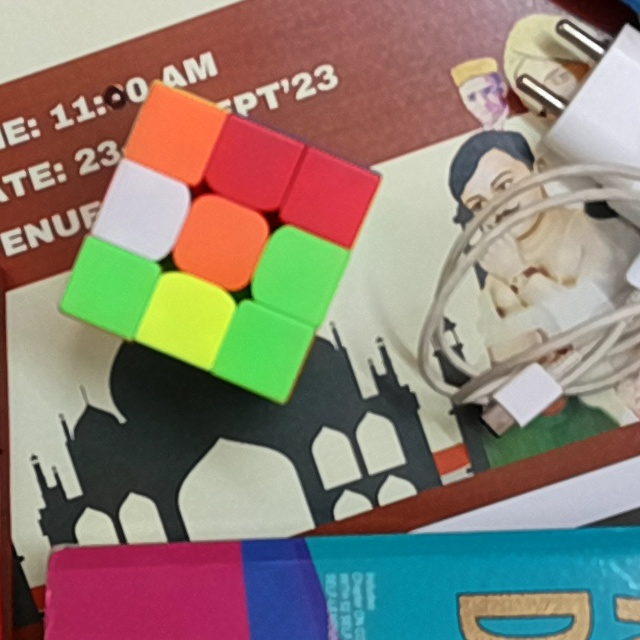tile: (268, 247, 327, 306), (80, 259, 142, 315), (145, 105, 203, 163), (191, 213, 250, 270), (156, 289, 214, 346), (233, 324, 293, 379), (302, 168, 359, 224), (222, 138, 281, 192), (115, 183, 168, 243)
